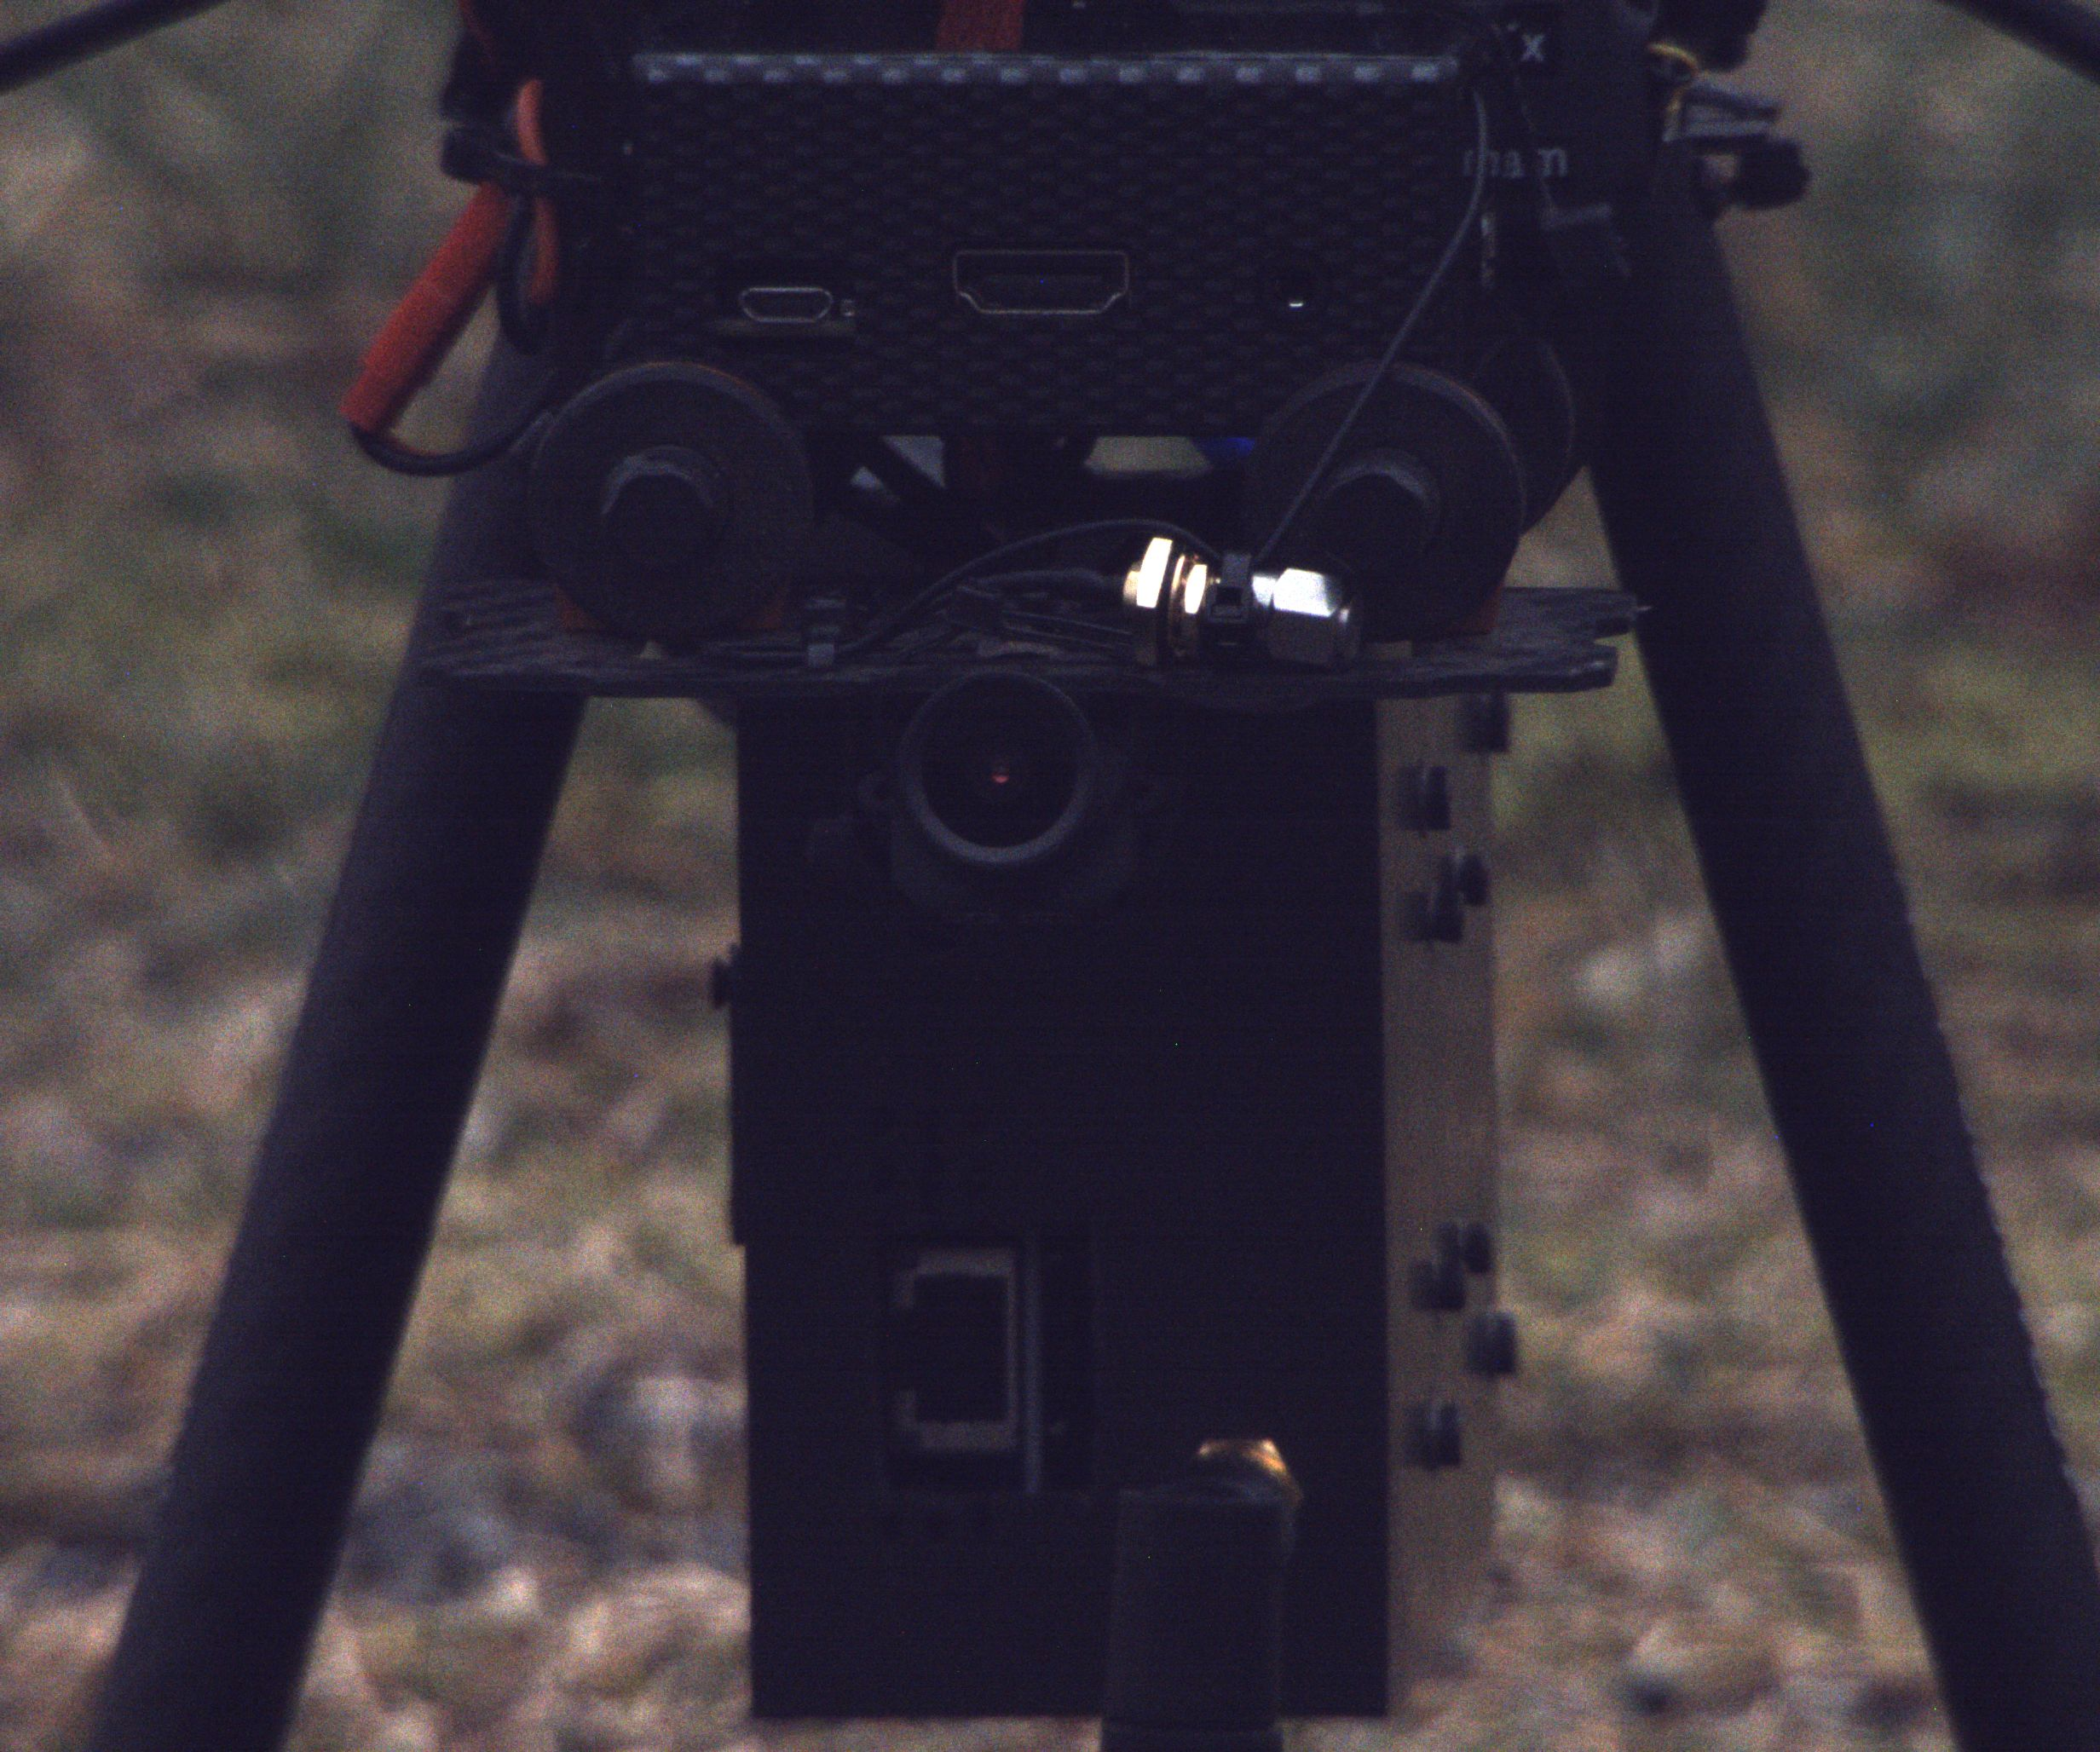Drohne: (44, 9, 2051, 1752)
